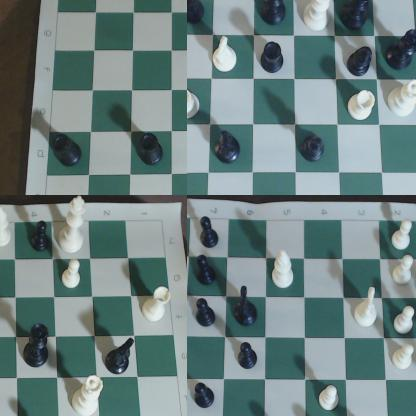black-bishop: (349, 44, 374, 77), (301, 137, 330, 164)
black-king: (347, 1, 377, 35)
black-knight: (217, 126, 246, 167), (109, 336, 138, 377), (236, 282, 259, 331)
black-pawn: (188, 296, 223, 329), (192, 256, 222, 289), (197, 214, 223, 250), (235, 341, 263, 372), (32, 220, 52, 256), (192, 382, 217, 410)
black-queen: (23, 324, 54, 372), (385, 29, 416, 75), (261, 1, 290, 28)
black-rook: (50, 131, 84, 172), (259, 34, 286, 75), (139, 131, 165, 172), (188, 1, 207, 28)
white-bishop: (274, 249, 296, 290), (1, 204, 17, 254)
white-king: (57, 196, 89, 256), (295, 1, 334, 33)
white-knight: (210, 36, 240, 76), (355, 285, 381, 331)
white-pawn: (59, 261, 91, 299), (318, 379, 343, 412), (394, 301, 416, 336), (391, 219, 415, 251), (392, 255, 416, 286), (392, 343, 416, 370)
white-queen: (71, 371, 105, 416), (388, 82, 416, 119)
white-rook: (140, 288, 174, 334), (347, 88, 376, 124), (188, 83, 204, 124)
